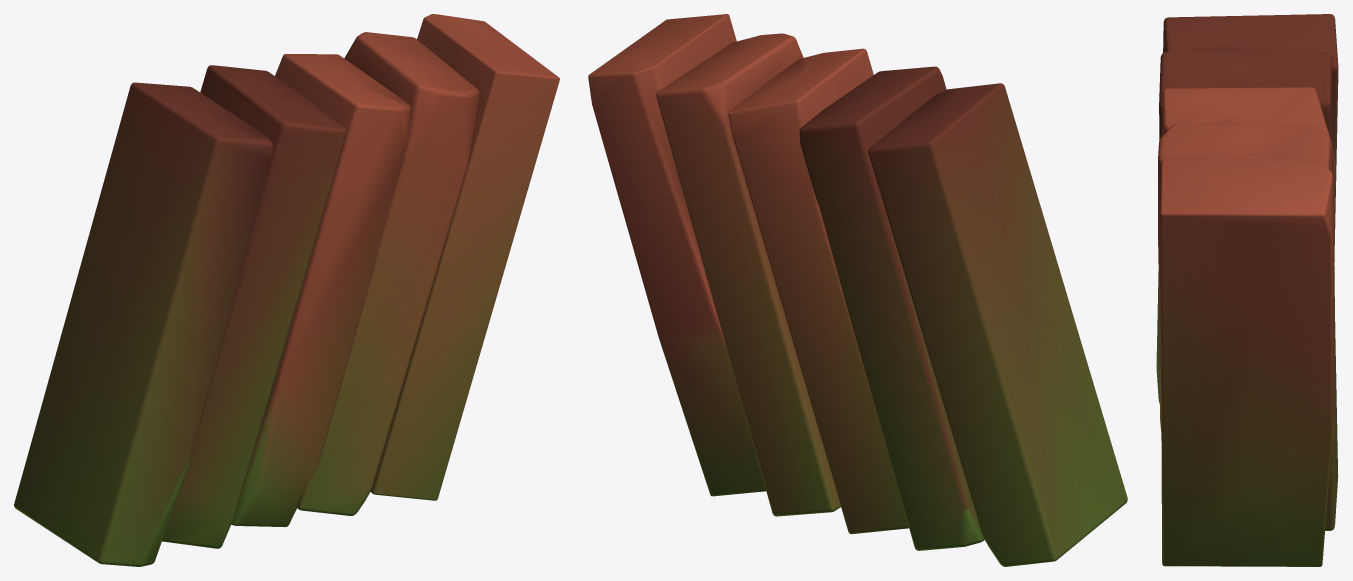
File: mire_brick_edging.glb
3 views of the same model, side by side, from view 1: azimuth 30°, elevation 25°; view 2: azimuth 150°, elevation 25°; view 3: azimuth 270°, elevation 25° (orthographic). The views are drawn at different scales.
Parts seen in each view (by area): view 1: mire_brick_edging; view 2: mire_brick_edging; view 3: mire_brick_edging.
Boxes of the visible parts, x1,y1,x2,y2 form: mire_brick_edging: [14, 14, 559, 566]; mire_brick_edging: [588, 14, 1127, 566]; mire_brick_edging: [1156, 14, 1338, 566].
Bounding box in the file's own units: 16.03 × 13.51 × 5.09.
